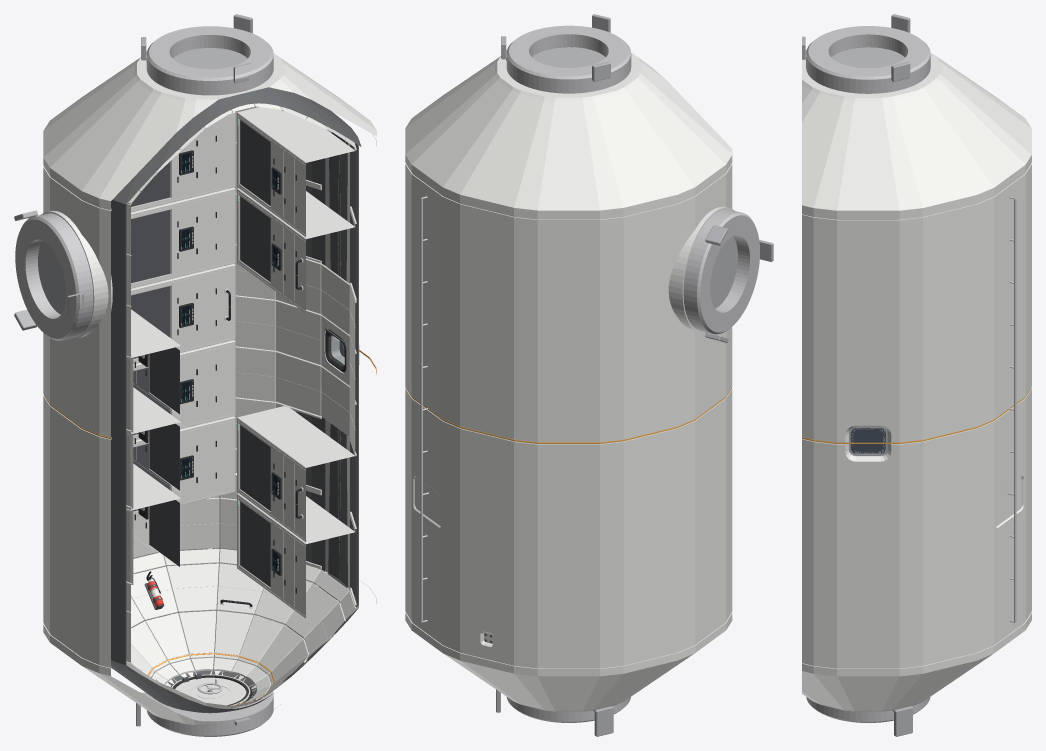
The model's file is ax_station_06_lab_cutaway.glb.
3 views of the same model, side by side, from view 1: azimuth 30°, elevation 25°; view 2: azimuth 150°, elevation 25°; view 3: azimuth 270°, elevation 25° (orthographic).
Visible parts, largest first — view 1: ext_pressure_hull, pressure_vessel, rack_2_body, ext_port_1, ext_port_top, rack_4_body, rack_8_body, rack_7_body, rack_1_body, rack_3_body, rack_5_body, rack_6_body (+46 smaller); view 2: ext_pressure_hull, ext_port_1, ext_port_top, ext_port_1_pedestal, ext_handrails, ext_hatch_door_3, ext_hatch_door_2, ext_port_bottom, ext_port_1_petals, ext_port_top_petals, ext_orange_stripes, ext_port_bottom_petals; view 3: ext_pressure_hull, ext_port_top, ext_handrails, ext_hatch_door_2, ext_port_bottom, ext_window_glass, ext_port_top_petals, ext_port_bottom_petals, ext_orange_stripes.
Boxes of the visible parts, <box> form: ext_pressure_hull: <box>43,53,376,725</box>; pressure_vessel: <box>111,48,361,713</box>; rack_2_body: <box>237,406,354,541</box>; ext_port_1: <box>15,213,93,340</box>; ext_port_top: <box>146,26,273,95</box>; rack_4_body: <box>237,107,354,236</box>; rack_8_body: <box>131,187,235,288</box>; rack_7_body: <box>131,263,235,364</box>; rack_1_body: <box>237,493,354,618</box>; rack_3_body: <box>237,188,354,313</box>; rack_5_body: <box>133,416,235,516</box>; rack_6_body: <box>133,340,235,440</box>; ext_pressure_hull: <box>405,52,732,711</box>; ext_port_1: <box>683,209,759,334</box>; ext_port_top: <box>506,25,631,93</box>; ext_port_1_pedestal: <box>668,206,734,332</box>; ext_handrails: <box>420,196,428,622</box>; ext_hatch_door_3: <box>710,236,737,308</box>; ext_hatch_door_2: <box>532,47,605,67</box>; ext_port_bottom: <box>506,697,630,722</box>; ext_port_1_petals: <box>705,225,773,342</box>; ext_port_top_petals: <box>501,14,610,81</box>; ext_orange_stripes: <box>405,387,731,443</box>; ext_port_bottom_petals: <box>496,689,613,736</box>; ext_pressure_hull: <box>802,53,1031,711</box>; ext_port_top: <box>806,26,930,93</box>; ext_handrails: <box>1008,196,1016,622</box>; ext_hatch_door_2: <box>831,47,904,67</box>; ext_port_bottom: <box>806,697,930,722</box>; ext_window_glass: <box>850,428,885,453</box>; ext_port_top_petals: <box>802,14,910,81</box>; ext_port_bottom_petals: <box>892,706,912,736</box>; ext_orange_stripes: <box>802,388,1031,443</box>.
Size of the model in its own units: 4.64 by 9.47 by 2.95.
Materials: 29 (1 with a texture image).
